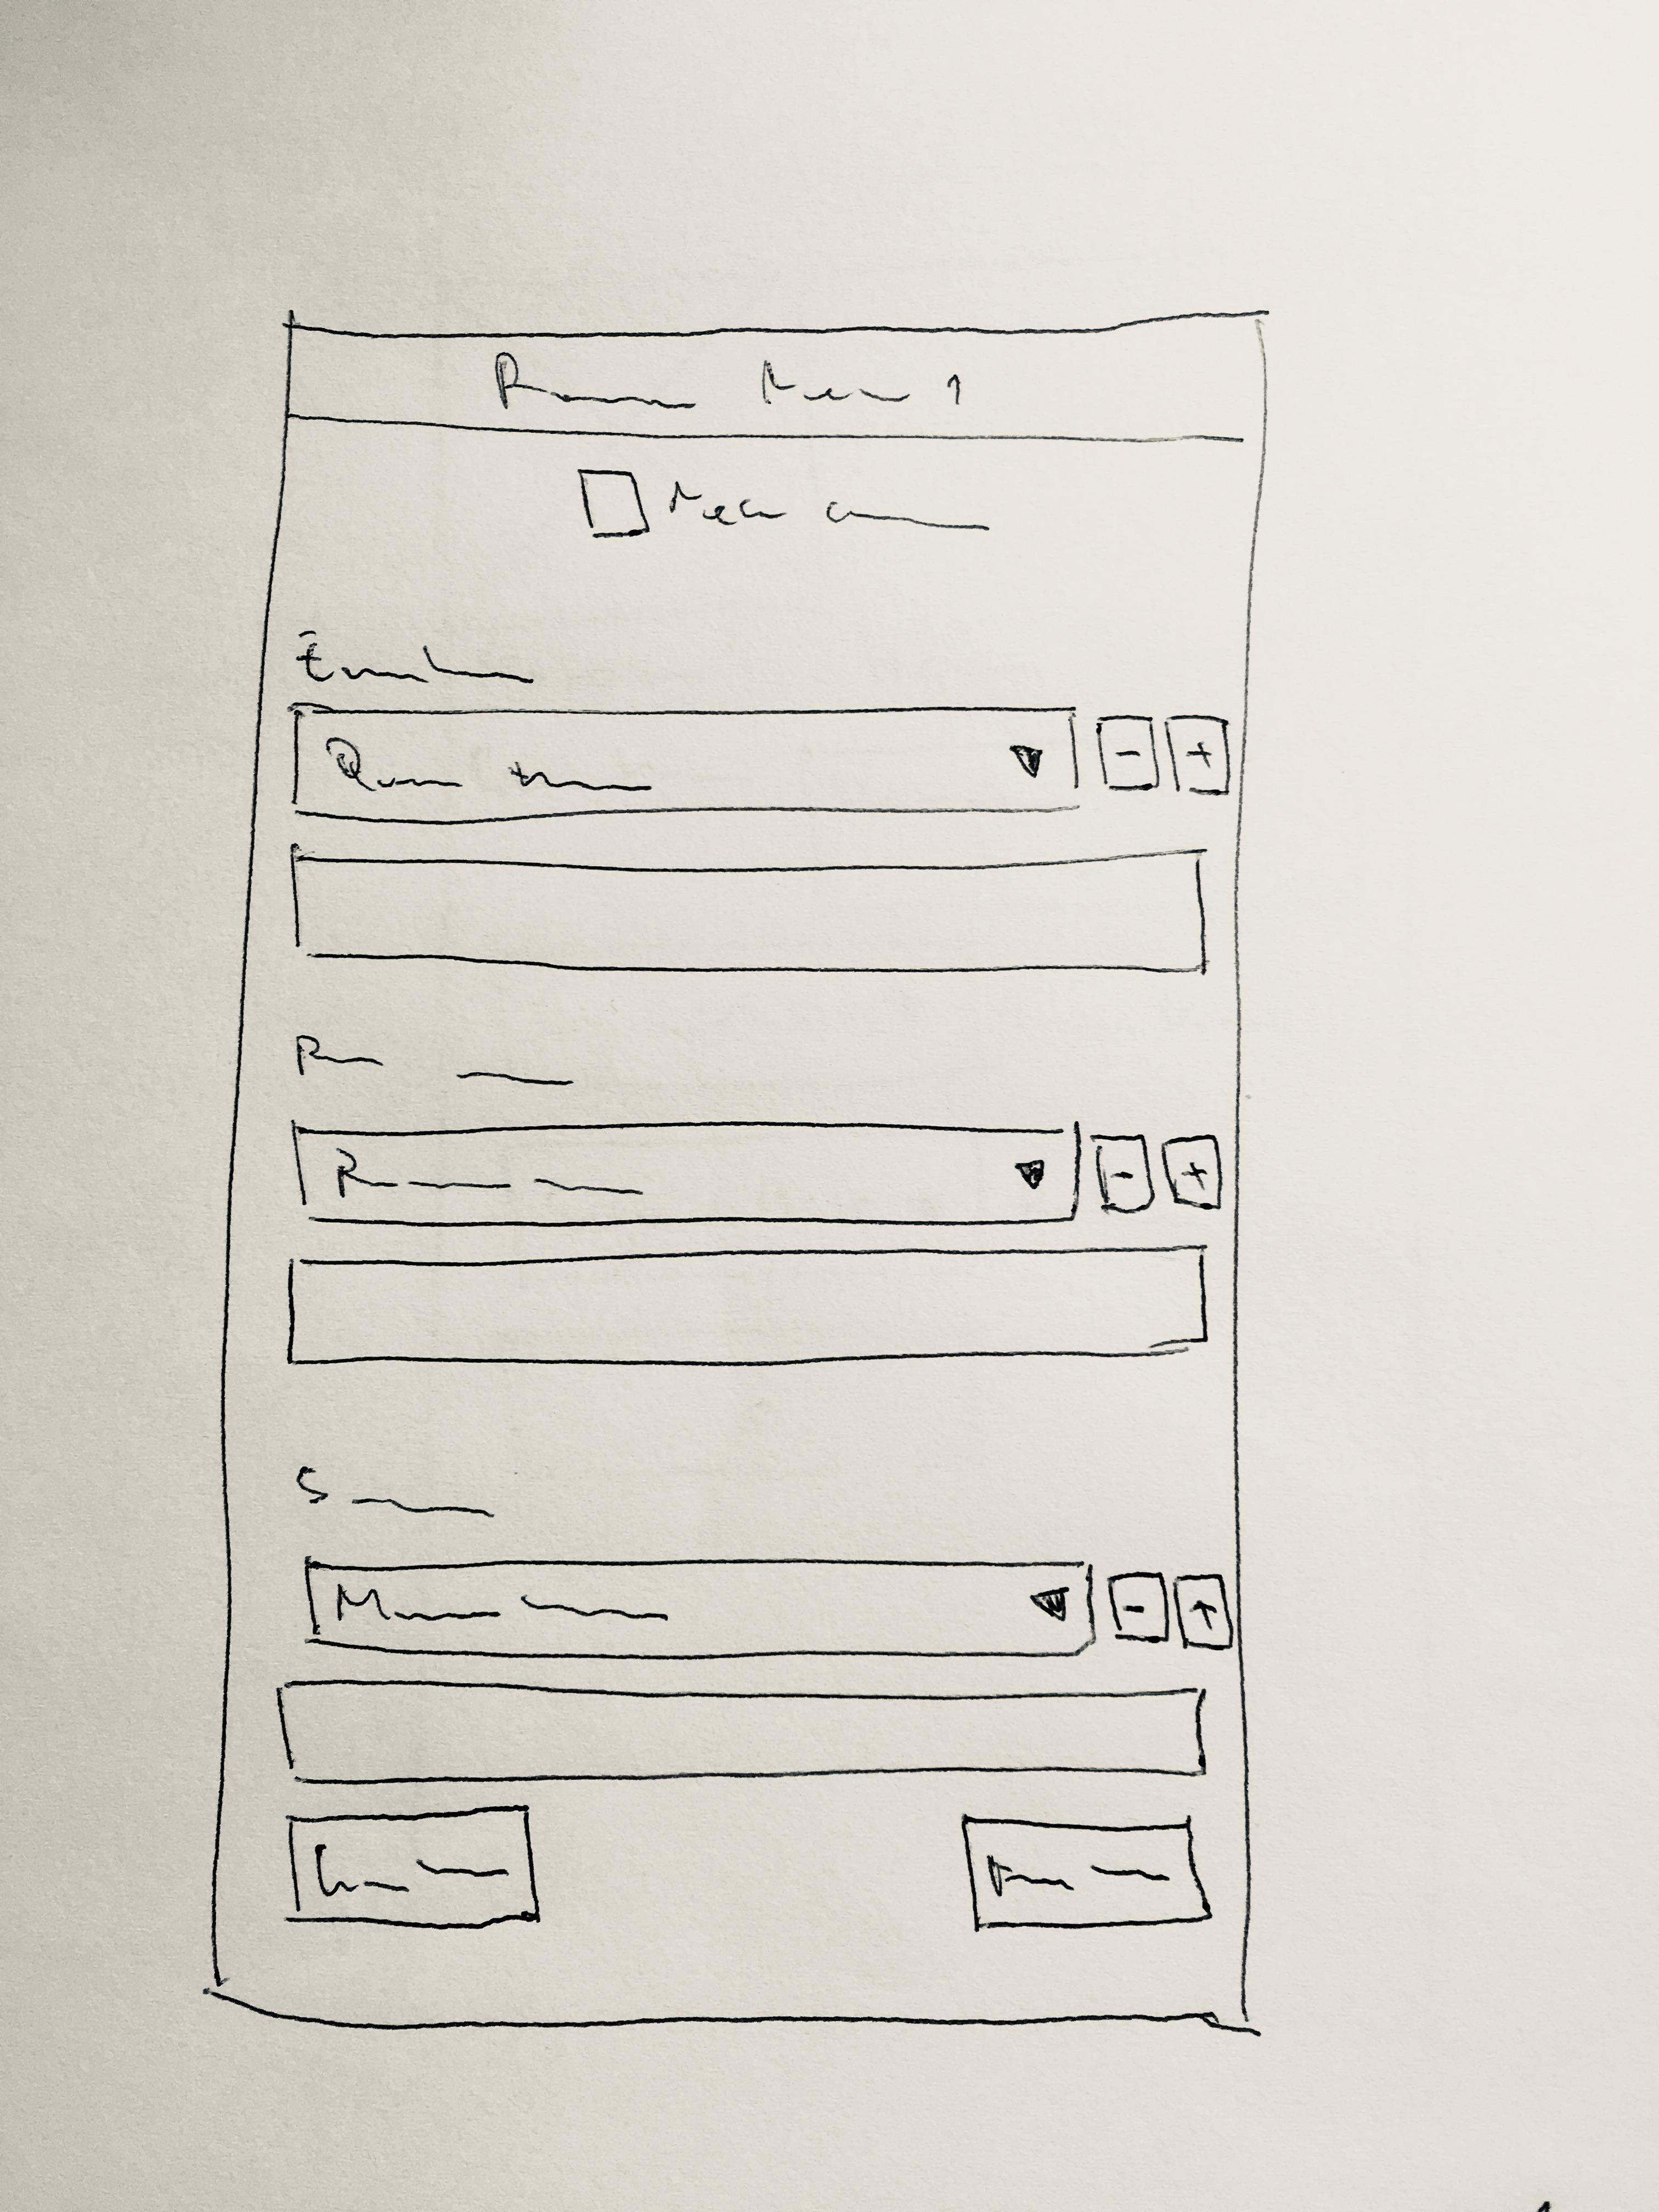Button: (284, 1804, 540, 1930), (960, 1815, 1213, 1932), (1164, 716, 1230, 796), (1091, 1134, 1155, 1214), (1094, 716, 1161, 791), (1173, 1573, 1236, 1651), (1162, 1134, 1222, 1211), (1108, 1571, 1169, 1642)
CheckBox: (577, 467, 990, 538)
Label: (486, 345, 971, 420), (295, 1035, 575, 1087), (296, 629, 537, 686), (293, 1468, 497, 1517)
ListPicker: (289, 702, 1080, 826), (291, 1120, 1080, 1228), (301, 1555, 1098, 1658)
Screen: (207, 303, 1279, 2036)
TextBox: (289, 843, 1208, 975), (286, 1242, 1206, 1366), (275, 1679, 1206, 1785)
